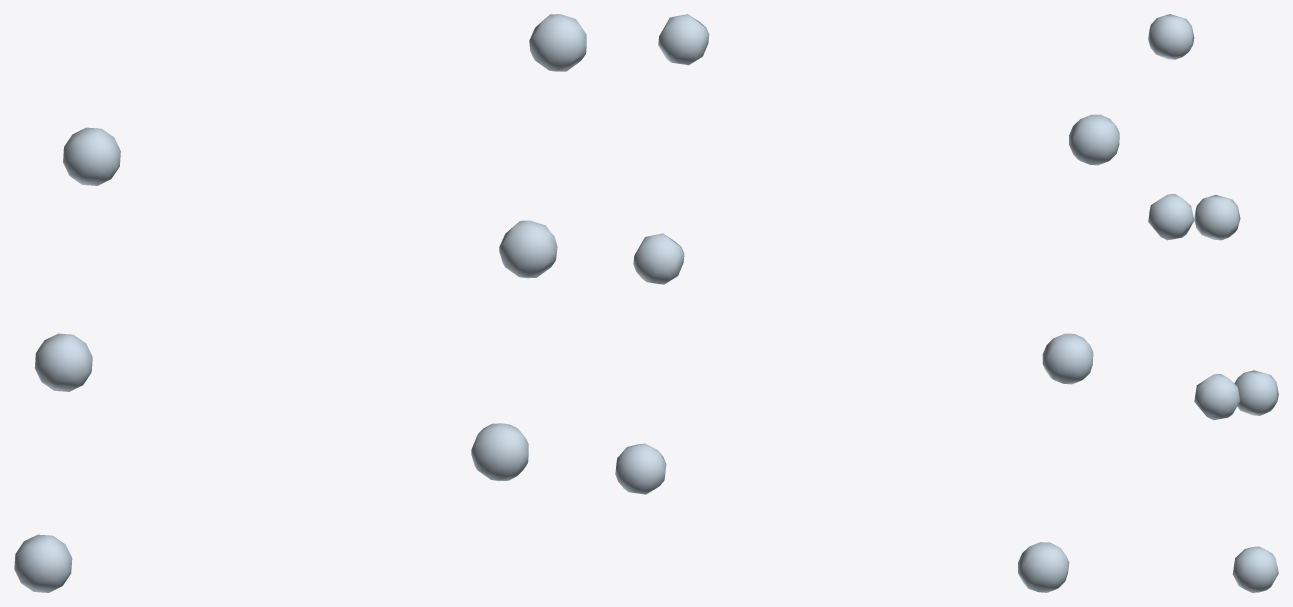
Rendered from linfatico-paratracheal-cervical-nodes.glb.
3 views of the same model, side by side, from view 1: azimuth 30°, elevation 25°; view 2: azimuth 150°, elevation 25°; view 3: azimuth 270°, elevation 25° (orthographic). The views are drawn at different scales.
Visible parts, largest first — view 1: Paratracheal cervical nodes; view 2: Paratracheal cervical nodes; view 3: Paratracheal cervical nodes.
Boxes of the visible parts, x1=… form: Paratracheal cervical nodes: x1=14, y1=14, x2=586, y2=592; Paratracheal cervical nodes: x1=615, y1=14, x2=1119, y2=592; Paratracheal cervical nodes: x1=1148, y1=14, x2=1278, y2=592.
Size of the model in its own units: 0.0261 by 0.0241 by 0.00722.
